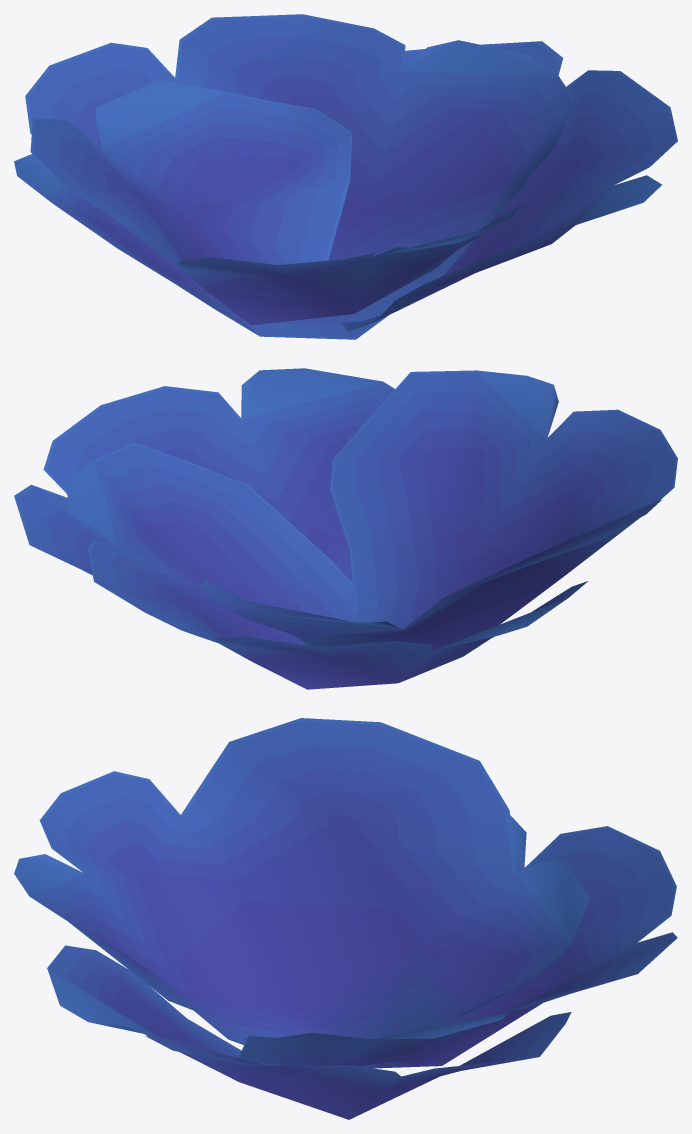
The model's file is CoralOD.fbx.
3 renders of one model, top to bottom at view 1: azimuth 30°, elevation 25°; view 2: azimuth 150°, elevation 25°; view 3: azimuth 270°, elevation 25°, orthographic. The views are drawn at different scales.
Visible parts, largest first — view 1: CoralOD; view 2: CoralOD; view 3: CoralOD.
Part boxes in pixels (<box>): CoralOD: <box>14,14,677,339</box>; CoralOD: <box>14,368,677,689</box>; CoralOD: <box>14,718,677,1119</box>.
Bounding box in the file's own units: 62.16 × 21.34 × 58.88.
Materials: 1 (1 with a texture image).
